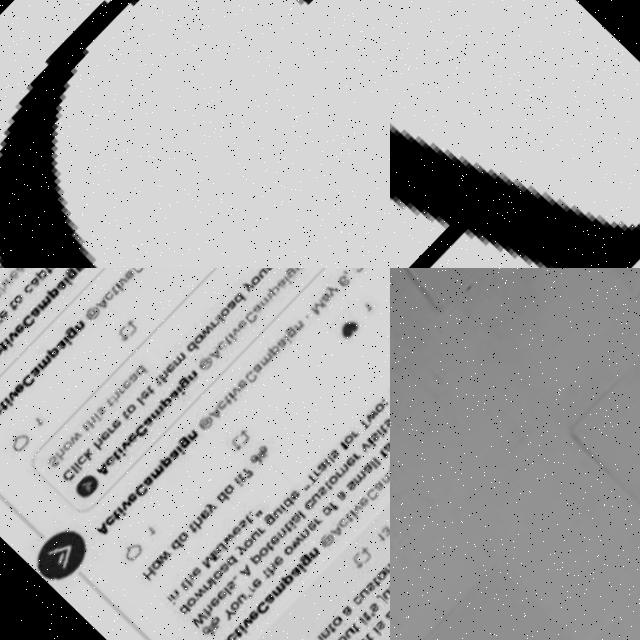0: (358, 268, 371, 271)
1: (374, 537, 385, 549), (144, 528, 156, 539), (362, 307, 372, 319), (32, 417, 42, 428)
2: (349, 268, 363, 279)
3: (379, 530, 390, 544)
6: (336, 278, 350, 293)
A: (94, 462, 112, 481), (205, 347, 223, 366), (327, 527, 344, 545), (238, 566, 255, 584), (206, 407, 223, 425), (94, 522, 110, 540), (260, 594, 276, 611), (52, 277, 68, 294), (93, 297, 109, 314), (339, 609, 354, 624), (372, 484, 386, 499), (360, 467, 374, 482), (54, 338, 68, 353), (27, 305, 41, 320), (288, 569, 302, 583), (334, 494, 348, 508), (288, 516, 302, 530), (250, 365, 264, 379), (140, 417, 154, 431), (28, 366, 42, 380), (217, 565, 230, 579), (315, 465, 328, 479), (141, 476, 154, 490), (167, 450, 180, 464), (126, 373, 139, 387), (167, 391, 180, 404), (28, 276, 40, 290), (276, 341, 287, 353), (276, 281, 287, 293), (381, 446, 390, 460), (226, 303, 237, 314), (382, 613, 390, 627), (320, 297, 330, 308), (252, 307, 262, 318), (14, 268, 25, 274)
C: (0, 0, 140, 268), (58, 467, 76, 486), (18, 372, 36, 391), (362, 491, 380, 509), (18, 313, 36, 331), (253, 602, 270, 620), (131, 484, 148, 502), (132, 425, 149, 443), (242, 313, 258, 331), (242, 372, 258, 388), (349, 598, 364, 613), (302, 502, 316, 517), (102, 456, 116, 470), (103, 515, 116, 529), (129, 268, 146, 278), (21, 283, 34, 296), (216, 343, 227, 355), (103, 292, 114, 304), (216, 403, 227, 414), (338, 522, 348, 534), (76, 455, 86, 467), (224, 635, 237, 640), (0, 405, 3, 419)
D: (176, 605, 192, 622), (224, 556, 240, 573), (214, 492, 230, 509), (132, 365, 148, 382), (280, 500, 296, 516), (168, 541, 182, 556), (214, 545, 228, 559), (185, 343, 199, 357), (232, 295, 245, 309)
E: (356, 499, 370, 514), (270, 557, 284, 572), (304, 523, 318, 538), (207, 598, 221, 613), (214, 591, 228, 606), (268, 537, 282, 552), (343, 460, 357, 475), (189, 568, 203, 583), (228, 527, 242, 542), (249, 581, 263, 595), (198, 511, 212, 525), (122, 270, 136, 284), (11, 322, 25, 336), (247, 612, 260, 627), (235, 381, 248, 395), (125, 433, 138, 447), (12, 383, 26, 396), (125, 493, 138, 506), (163, 364, 176, 377), (6, 269, 19, 282), (98, 430, 110, 444), (288, 493, 300, 506), (138, 390, 150, 403), (120, 380, 132, 393), (0, 307, 9, 321), (236, 323, 247, 334), (110, 420, 121, 431)
F: (338, 445, 350, 458), (327, 504, 339, 516)
G: (174, 376, 192, 395), (297, 556, 313, 573), (260, 515, 276, 532), (62, 326, 78, 343), (175, 437, 191, 453), (62, 268, 78, 283), (283, 329, 297, 344), (282, 269, 296, 284)
H: (390, 129, 640, 268), (140, 567, 157, 585), (264, 566, 278, 581), (201, 606, 215, 621), (192, 518, 206, 533), (156, 372, 170, 387), (54, 448, 68, 463), (184, 576, 198, 590), (84, 416, 98, 430), (92, 439, 105, 452), (109, 393, 122, 406), (0, 280, 9, 294)
I: (225, 335, 238, 348), (114, 507, 126, 520), (174, 387, 186, 399), (61, 335, 72, 348), (357, 620, 367, 632), (296, 565, 306, 577), (115, 448, 125, 460), (72, 461, 82, 473), (4, 396, 14, 408), (2, 336, 12, 348), (238, 627, 248, 638), (347, 514, 357, 525), (286, 523, 296, 534), (366, 443, 376, 454), (277, 507, 287, 518), (232, 480, 242, 491), (175, 447, 185, 458), (226, 395, 236, 406), (282, 338, 292, 349), (282, 279, 292, 290), (112, 284, 122, 295), (62, 277, 72, 288), (370, 630, 380, 640), (374, 434, 384, 444), (92, 414, 102, 424), (323, 463, 332, 473), (212, 552, 220, 562), (166, 599, 174, 608)
J: (374, 598, 387, 613)
K: (82, 449, 95, 462)
L: (222, 588, 232, 600), (296, 513, 306, 525), (216, 316, 226, 327), (368, 465, 377, 475), (372, 462, 381, 471), (326, 460, 335, 469), (135, 399, 144, 408), (208, 580, 216, 590), (70, 466, 78, 475)
M: (308, 302, 326, 321), (270, 584, 288, 602), (36, 354, 54, 372), (333, 467, 350, 485), (200, 555, 217, 573), (148, 466, 164, 484), (170, 354, 187, 370), (350, 474, 366, 490), (258, 356, 274, 372), (148, 407, 164, 423), (257, 296, 273, 312), (34, 296, 50, 312), (378, 474, 390, 490), (382, 564, 390, 580)
N: (306, 550, 320, 565), (274, 531, 287, 545), (200, 582, 213, 596), (73, 321, 86, 335), (297, 531, 310, 544), (168, 591, 180, 604), (186, 432, 198, 445), (186, 372, 198, 385), (293, 324, 304, 336), (208, 321, 218, 332), (319, 632, 330, 640), (292, 268, 303, 276), (72, 268, 85, 274), (387, 439, 390, 452)
O: (256, 549, 270, 563), (10, 293, 24, 307), (374, 574, 388, 587), (326, 478, 339, 492), (184, 598, 197, 612), (210, 572, 223, 586), (177, 533, 190, 547), (124, 404, 137, 418), (191, 335, 204, 349), (217, 309, 230, 323), (60, 440, 73, 454), (227, 602, 240, 616), (222, 487, 235, 500), (330, 620, 342, 634), (242, 540, 254, 554), (342, 438, 354, 452), (320, 510, 332, 523), (282, 548, 293, 560), (150, 562, 161, 574), (249, 278, 260, 290), (374, 408, 384, 419)
P: (279, 575, 295, 592), (157, 455, 173, 472), (158, 395, 174, 412), (44, 344, 60, 361), (44, 284, 60, 301), (248, 555, 262, 570), (267, 347, 280, 361), (35, 269, 46, 280), (268, 289, 278, 301)
R: (2, 275, 12, 286), (245, 587, 255, 597), (104, 427, 114, 437), (352, 456, 361, 466), (256, 529, 265, 539), (312, 472, 321, 482), (350, 433, 359, 443), (116, 388, 125, 397), (314, 520, 322, 530), (263, 268, 272, 275)
S: (44, 454, 60, 471), (366, 606, 379, 620), (225, 581, 238, 595), (237, 520, 250, 534), (374, 624, 386, 637), (316, 489, 328, 502), (368, 437, 379, 449), (95, 407, 106, 419), (364, 587, 375, 598), (345, 486, 356, 497), (328, 454, 339, 465), (382, 422, 390, 434), (387, 587, 390, 599)
T: (355, 421, 372, 438), (303, 475, 319, 492), (6, 301, 18, 313), (325, 626, 336, 638), (343, 517, 354, 529), (377, 454, 388, 466), (178, 583, 190, 594), (348, 627, 359, 638), (370, 583, 381, 594), (260, 573, 271, 584), (281, 527, 292, 538), (242, 518, 253, 529), (236, 476, 247, 487), (109, 287, 120, 298), (188, 525, 198, 537), (222, 397, 232, 409), (120, 412, 130, 424), (360, 616, 370, 627), (231, 630, 242, 640), (264, 545, 274, 556), (322, 486, 332, 497), (378, 429, 388, 440), (111, 451, 121, 462), (222, 338, 232, 349), (110, 512, 120, 522), (0, 400, 8, 412), (105, 400, 114, 410), (153, 379, 162, 389), (0, 340, 8, 351), (81, 424, 90, 433), (145, 387, 154, 396), (42, 268, 53, 275), (386, 391, 390, 408), (362, 637, 373, 640)
U: (270, 510, 284, 524), (308, 496, 322, 509), (234, 596, 246, 608), (256, 271, 267, 283), (358, 593, 369, 604), (380, 593, 390, 605), (250, 534, 260, 545), (342, 633, 353, 640)
V: (240, 619, 253, 633), (6, 389, 19, 403), (116, 277, 129, 291), (358, 446, 371, 459), (350, 506, 362, 520), (118, 501, 130, 514), (230, 388, 241, 400), (119, 441, 130, 453), (6, 331, 17, 342), (230, 329, 240, 341)
W: (190, 588, 208, 606), (362, 413, 380, 431), (190, 614, 208, 632), (155, 551, 172, 568), (220, 534, 237, 550), (198, 326, 214, 342), (66, 431, 82, 447), (288, 538, 304, 553)
Y: (220, 608, 237, 626), (202, 502, 218, 518), (323, 288, 338, 303), (234, 545, 248, 560), (240, 283, 254, 297)
